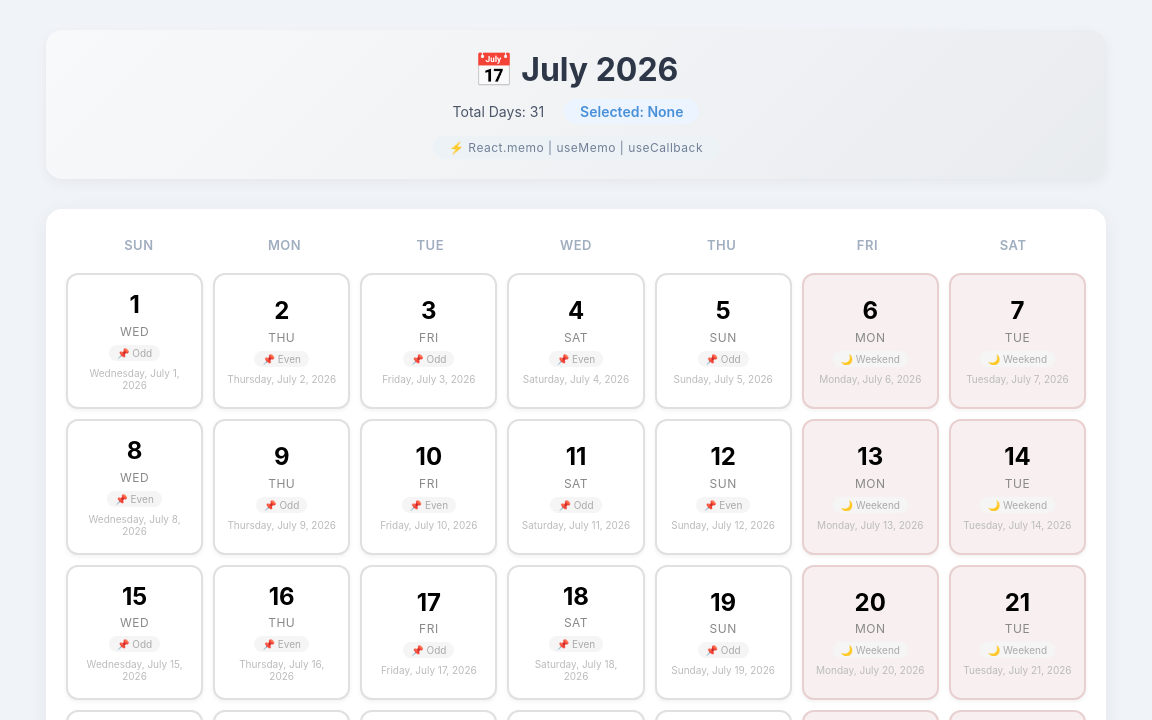
Test case: Calendar Component Tests › ✅ Day selection updates correctly
This screenshot has width=1152, height=720.
Expected: the text "Selected: Day" is not shown
# Click on day 15
Click the button with test id "day-15".
click(135, 632)  # box [66,565,203,700]
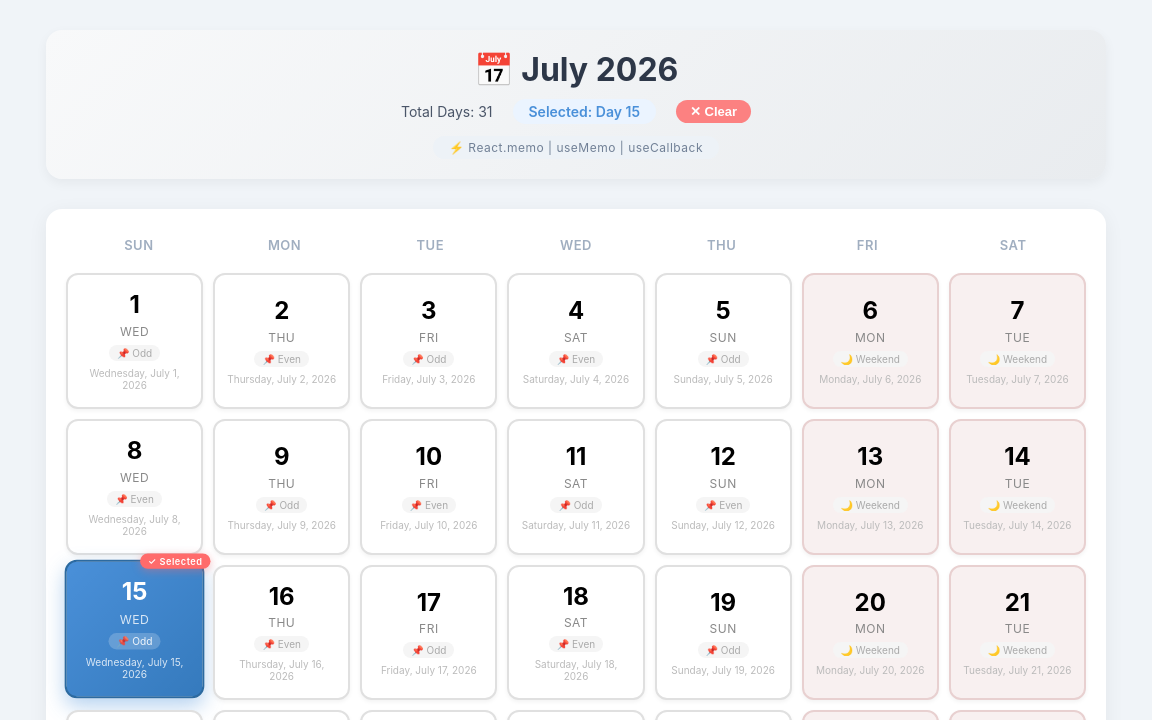
Now the text "Selected: Day 15" is shown, box [512,99,656,124]
